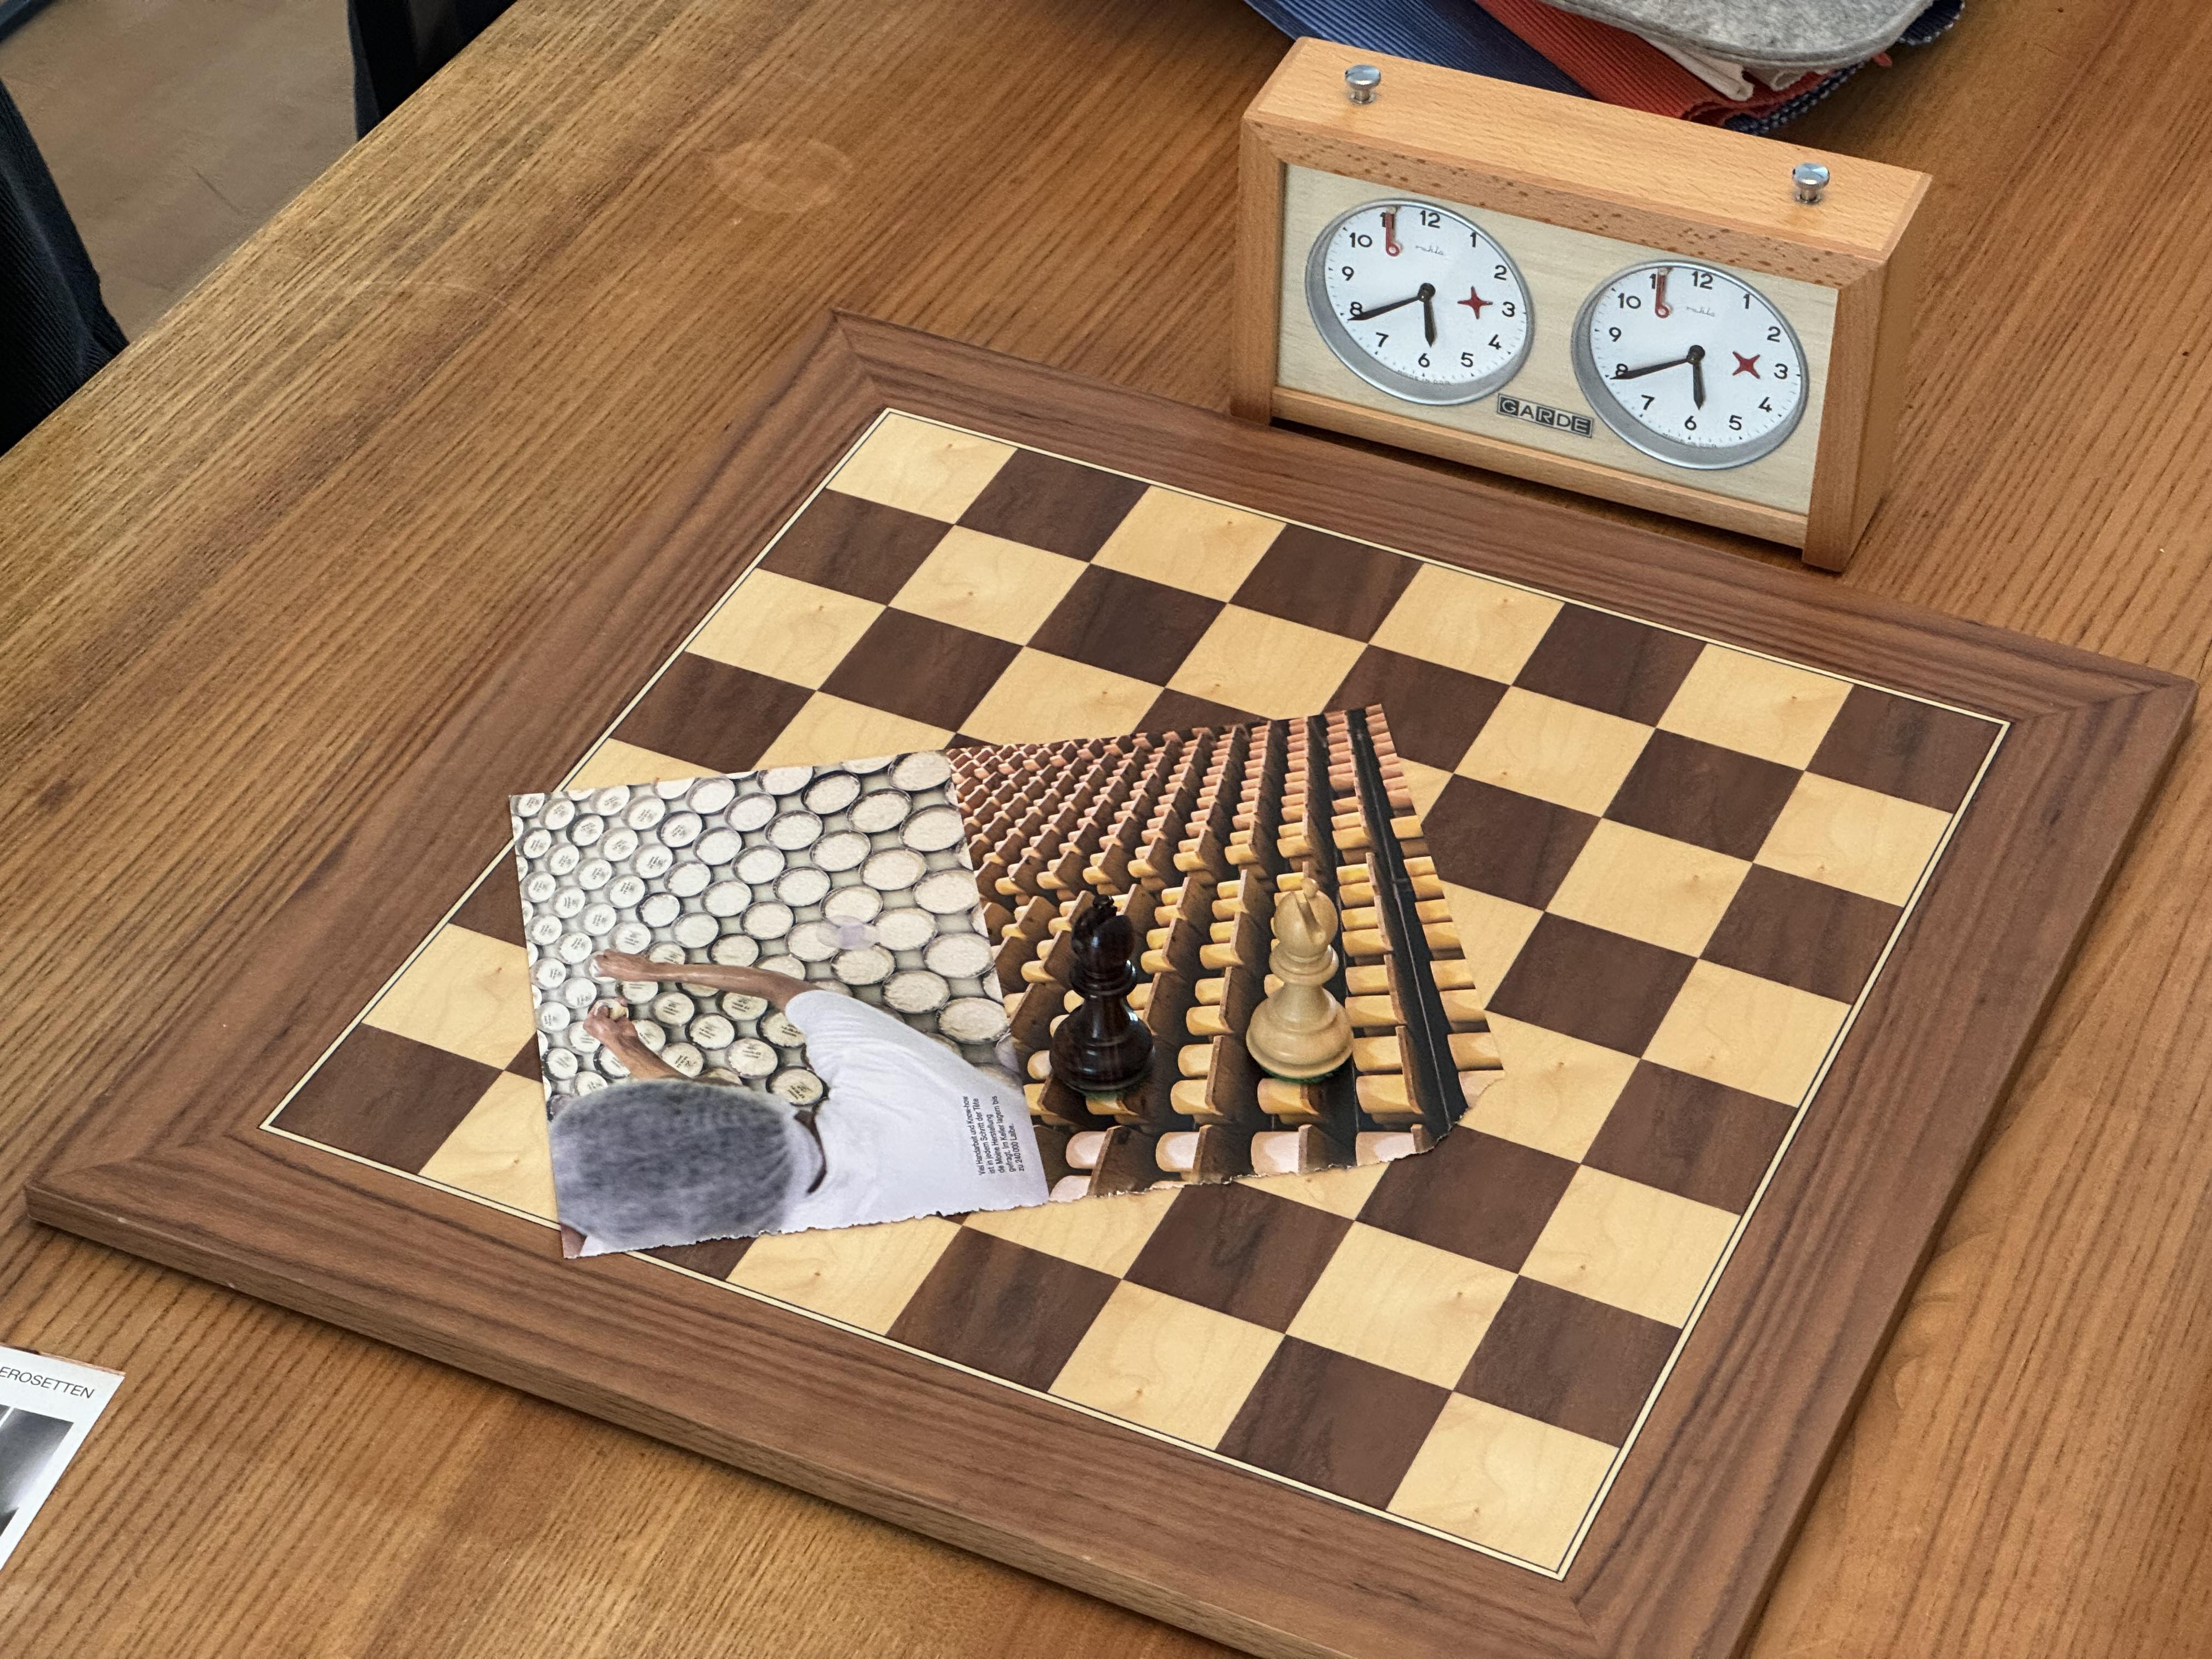Black Bishop: (1047, 892, 1158, 1100)
White Bishop: (1244, 875, 1357, 1087)
